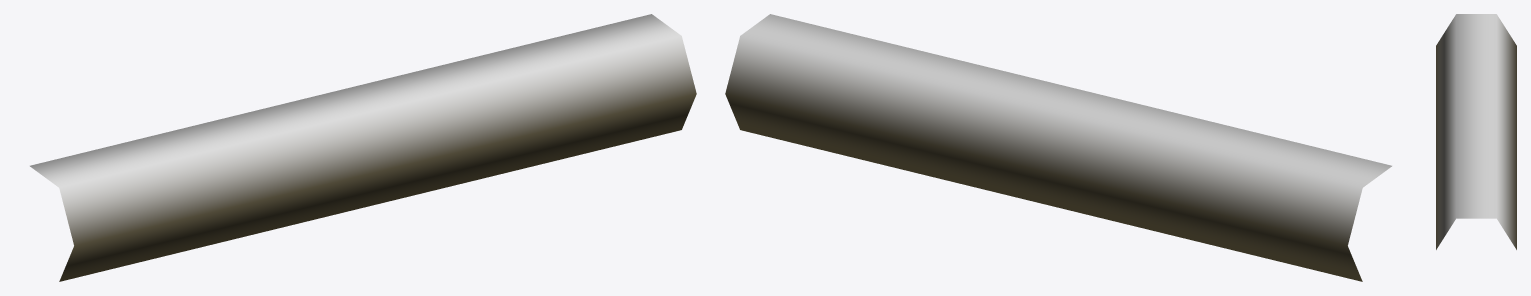
Rendered from FootholdCenter.gltf.
3 views of the same model, side by side, from view 1: azimuth 30°, elevation 25°; view 2: azimuth 150°, elevation 25°; view 3: azimuth 270°, elevation 25° (orthographic). The views are drawn at different scales.
Parts seen in each view (by area): view 1: FootholdCenterMesh; view 2: FootholdCenterMesh; view 3: FootholdCenterMesh.
Part boxes in pixels (x1,y1,x2,y2): FootholdCenterMesh: [30, 14, 696, 281]; FootholdCenterMesh: [725, 14, 1391, 281]; FootholdCenterMesh: [1436, 14, 1516, 249].
Size of the model in its own units: 1 by 0.1445 by 0.1668.
